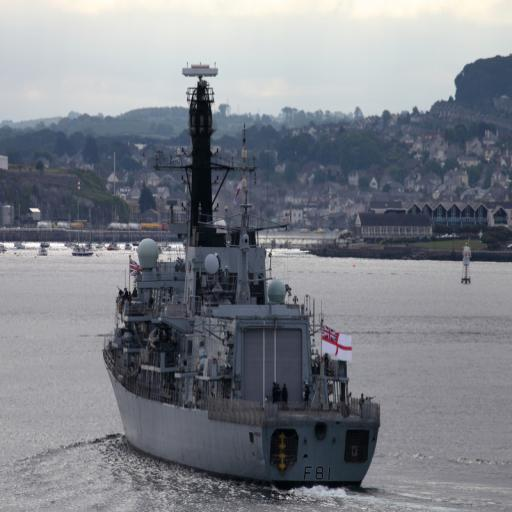Fragata: (96, 38, 384, 491)
